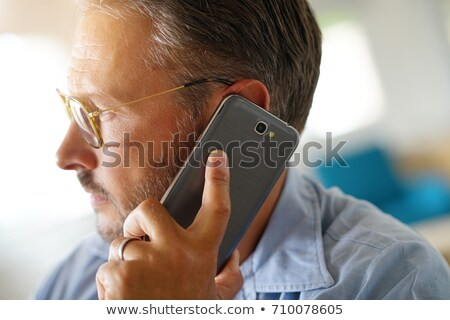phone: (153, 95, 293, 260)
talk: (54, 69, 302, 300)
